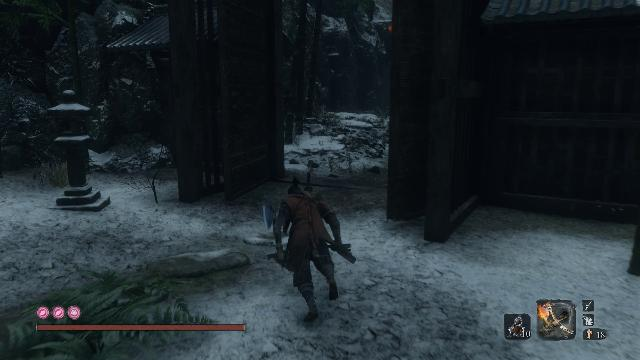sk: (261, 169, 358, 327)
